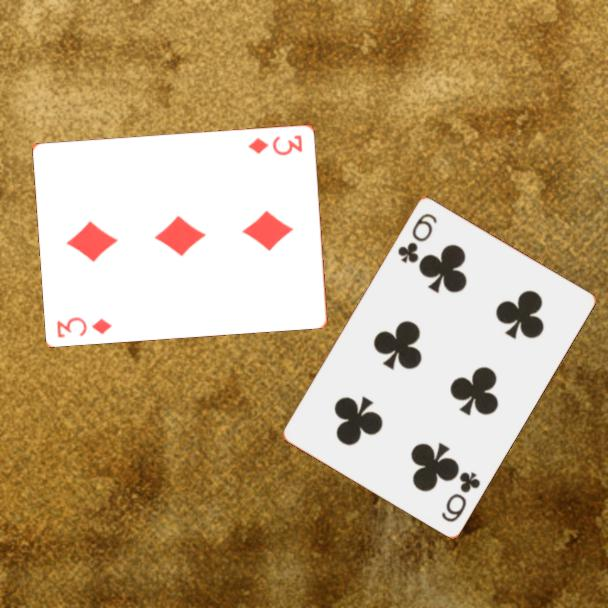c06: (394, 209, 440, 266), (438, 468, 483, 525)
d03: (245, 131, 306, 158), (54, 313, 115, 340)
